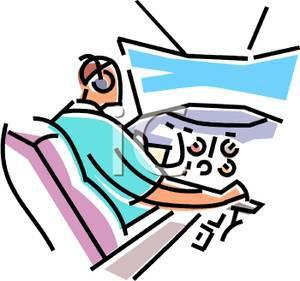chair: (1, 112, 144, 269)
person: (37, 49, 246, 224)
